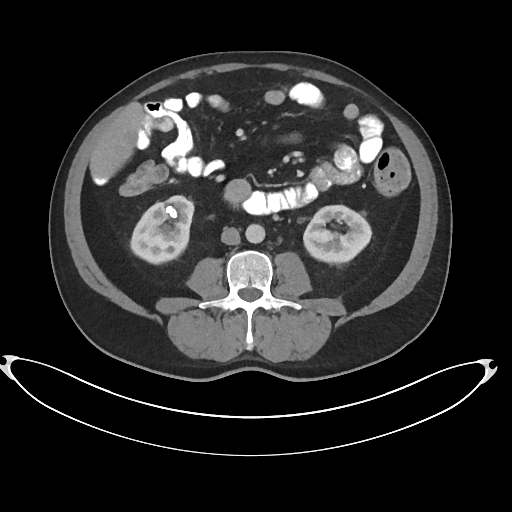Lesion: (161, 204, 181, 220)
